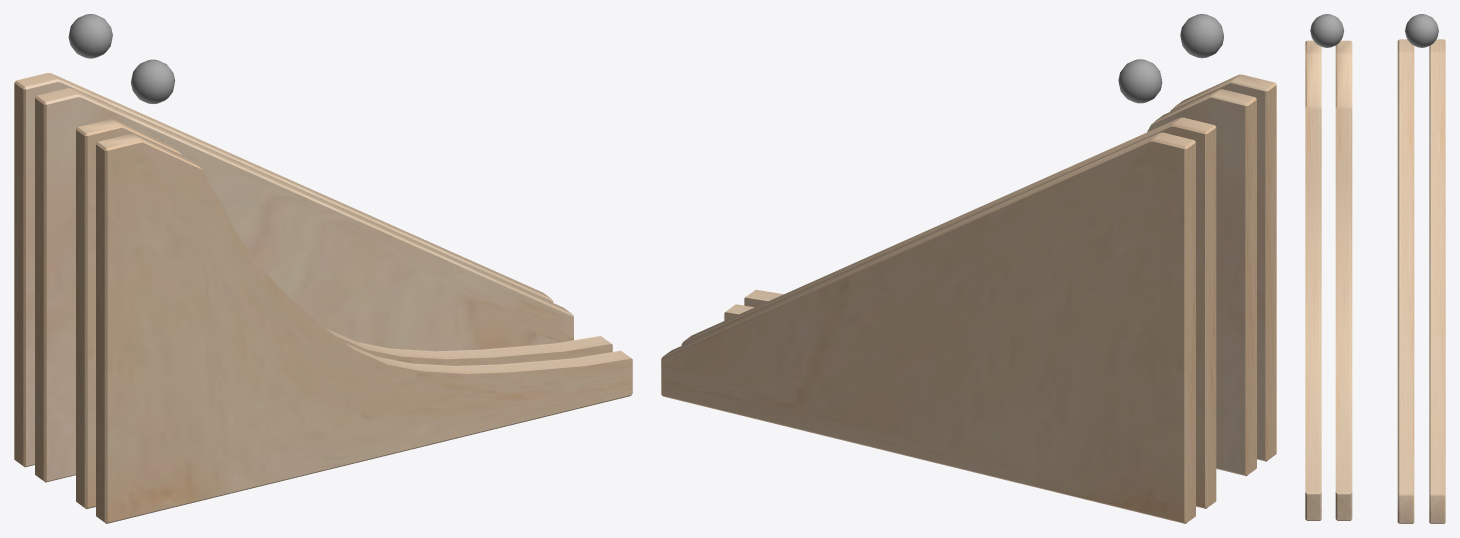
File: JUNHO0804(2).fbx
3 renders of one model, left to right at view 1: azimuth 30°, elevation 25°; view 2: azimuth 150°, elevation 25°; view 3: azimuth 270°, elevation 25°, orthographic. The views are drawn at different scales.
Parts seen in each view (by area): view 1: Cube.003, Cube.002, Cube.006, Cube.005, Sphere.001, Sphere.002; view 2: Cube.005, Cube.006, Cube.002, Cube.003, Sphere.001, Sphere.002; view 3: Cube.002, Cube.006, Cube.005, Cube.003, Sphere.001, Sphere.002.
Part boxes in pixels (x1,y1,x2,y2): Cube.003: [96, 134, 632, 523]; Cube.002: [35, 88, 573, 482]; Cube.006: [76, 119, 612, 509]; Cube.005: [14, 73, 553, 467]; Sphere.001: [68, 14, 112, 58]; Sphere.002: [131, 59, 175, 103]; Cube.005: [661, 132, 1195, 523]; Cube.006: [724, 89, 1256, 475]; Cube.002: [681, 117, 1216, 508]; Cube.003: [744, 74, 1276, 461]; Sphere.001: [1118, 59, 1162, 103]; Sphere.002: [1180, 14, 1223, 58]; Cube.002: [1397, 39, 1414, 523]; Cube.006: [1335, 40, 1352, 520]; Cube.005: [1429, 39, 1445, 523]; Cube.003: [1305, 40, 1321, 520]; Sphere.001: [1405, 14, 1438, 47]; Sphere.002: [1310, 14, 1343, 47].
Size of the model in its own units: 1453 by 1155 by 439.
3 materials, 1 textured.
